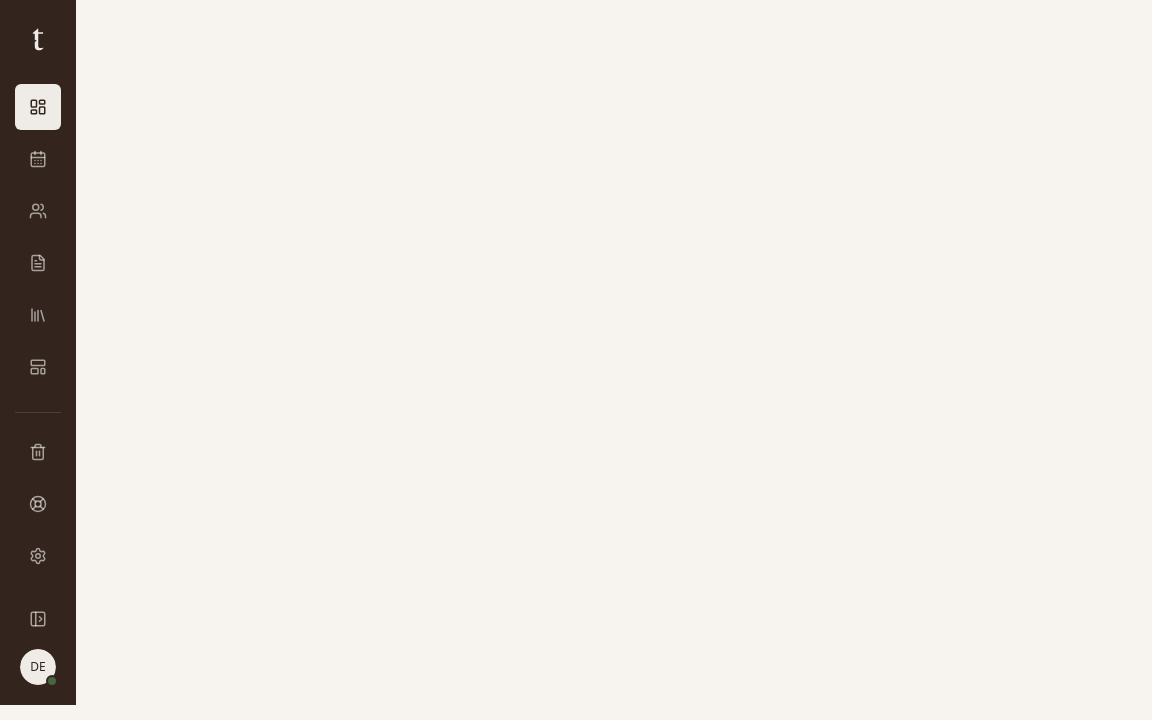
Test: Sidebar — rozwijanie › po rozwinięciu pokazuje etykiety
The image size is (1152, 720).
What coordinates should you click on to do the following:
click the button named "Rozwiń panel"
I would click on:
 (38, 619)
Its box is x1=20 y1=601 x2=56 y2=637.
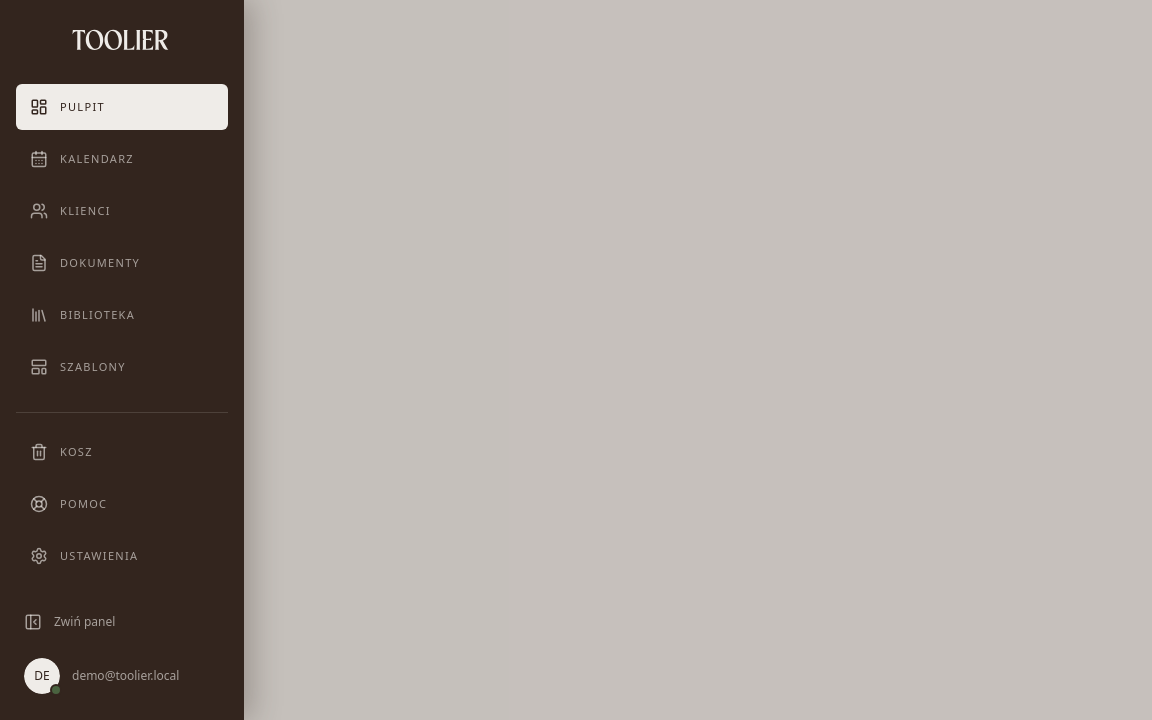
Result: the text "Biblioteka" is shown at x1=60 y1=307 x2=135 y2=323
